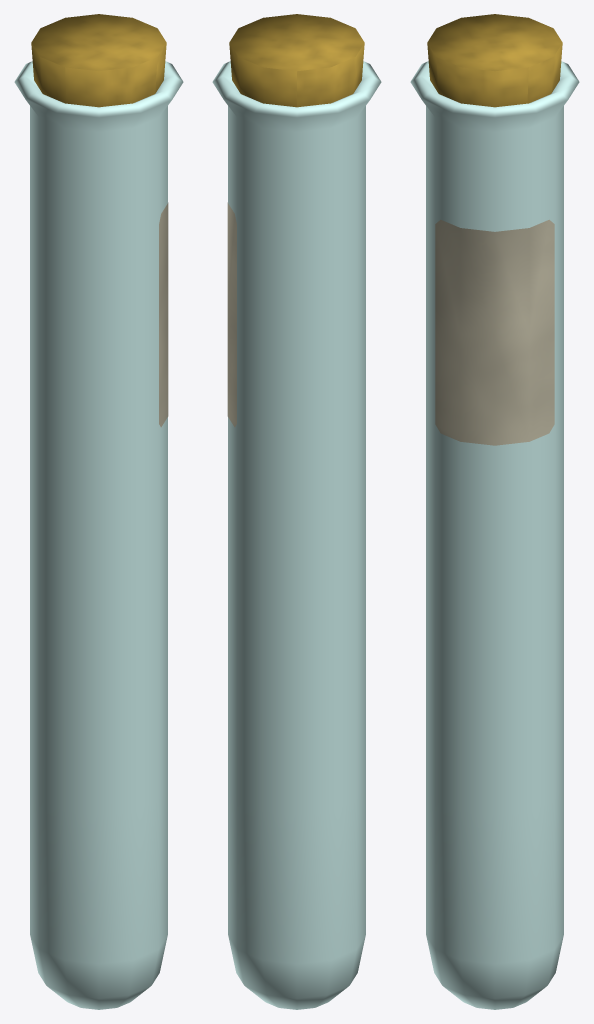
File: tube-long.glb
3 renders of one model, left to right at view 1: azimuth 30°, elevation 25°; view 2: azimuth 150°, elevation 25°; view 3: azimuth 270°, elevation 25°, orthographic.
Parts seen in each view (by area): view 1: tube-long, cork-tube-long, tag-tube-long; view 2: tube-long, cork-tube-long, tag-tube-long; view 3: tube-long, tag-tube-long, cork-tube-long.
Part boxes in pixels (<box>): tube-long: <box>14,61,183,1009</box>; cork-tube-long: <box>31,14,166,107</box>; tag-tube-long: <box>159,202,168,427</box>; tube-long: <box>212,61,381,1009</box>; cork-tube-long: <box>229,14,364,107</box>; tag-tube-long: <box>227,202,236,427</box>; tube-long: <box>410,61,579,1009</box>; tag-tube-long: <box>435,219,554,445</box>; cork-tube-long: <box>427,14,562,107</box>.
Bounding box in the file's own units: 0.0343 × 0.2138 × 0.0343.
3 materials, 2 textured.
